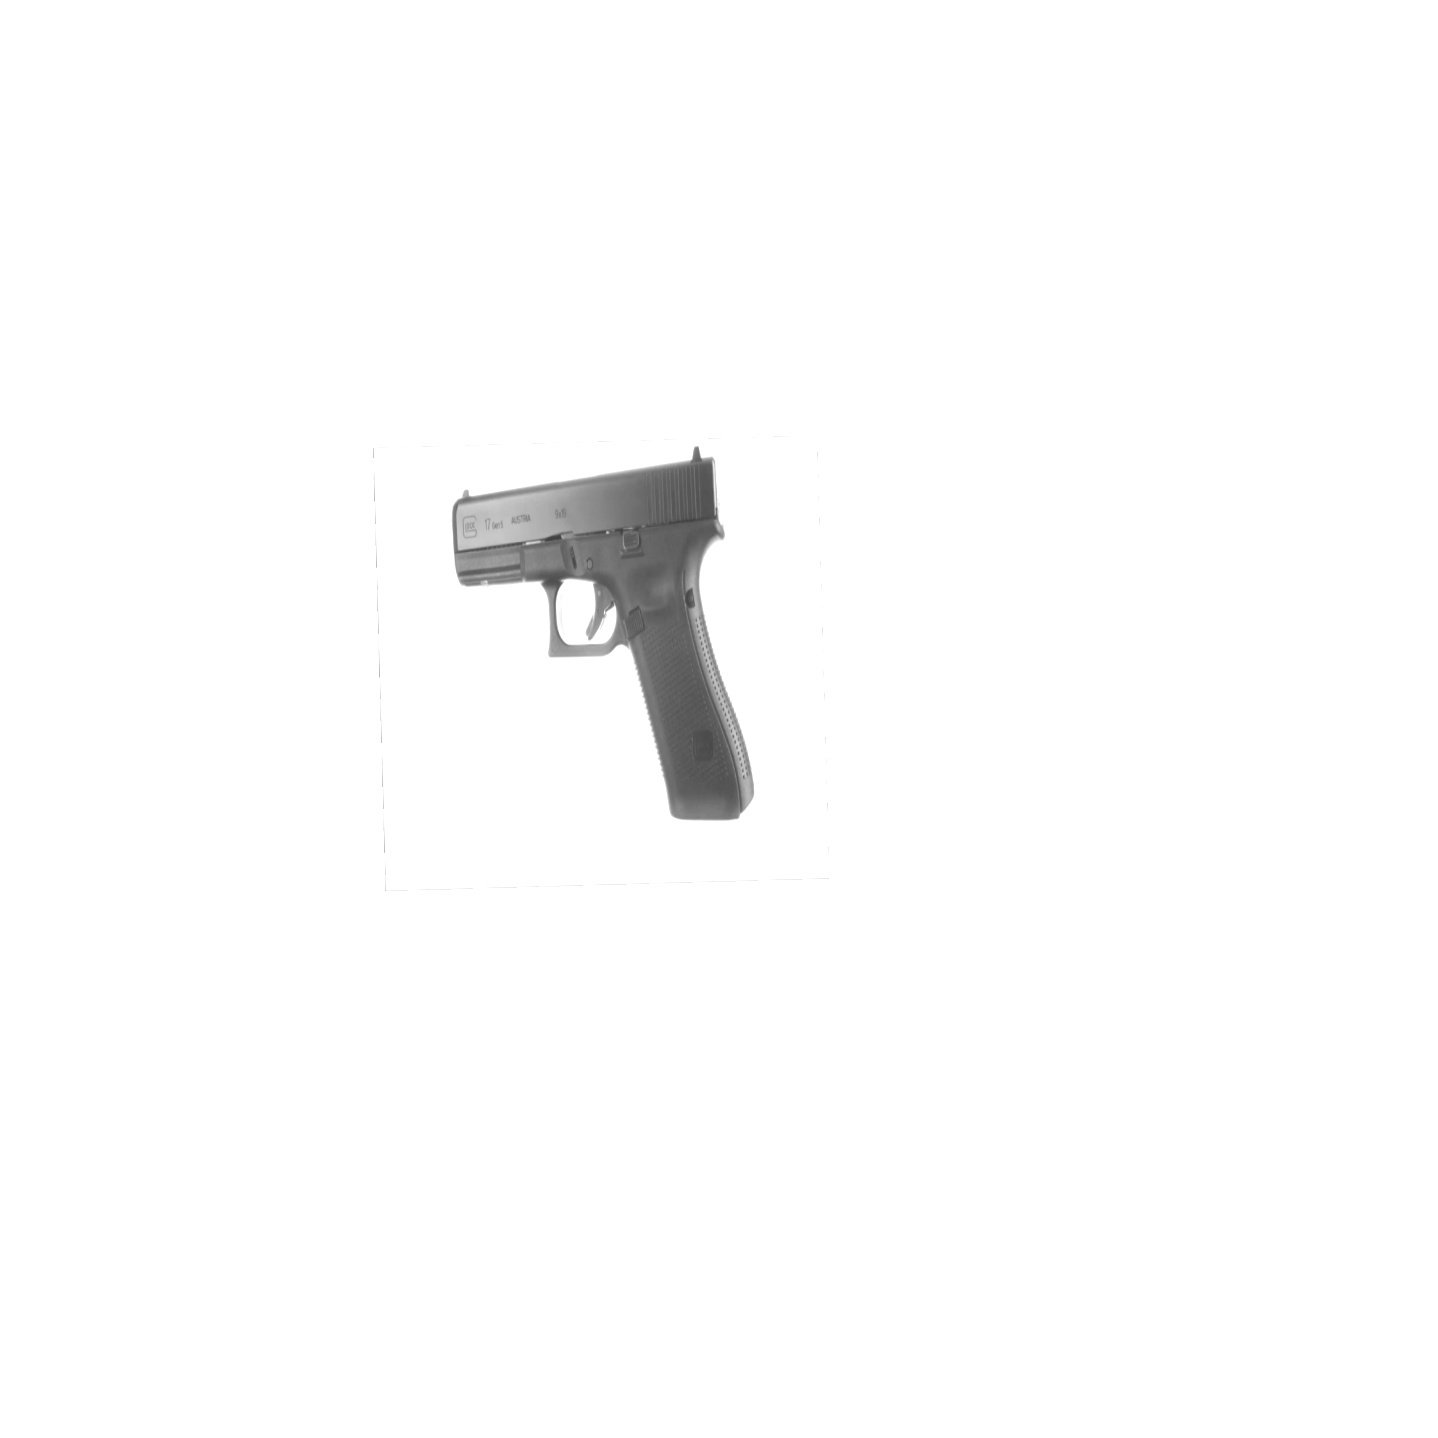gun: (448, 445, 759, 824)
